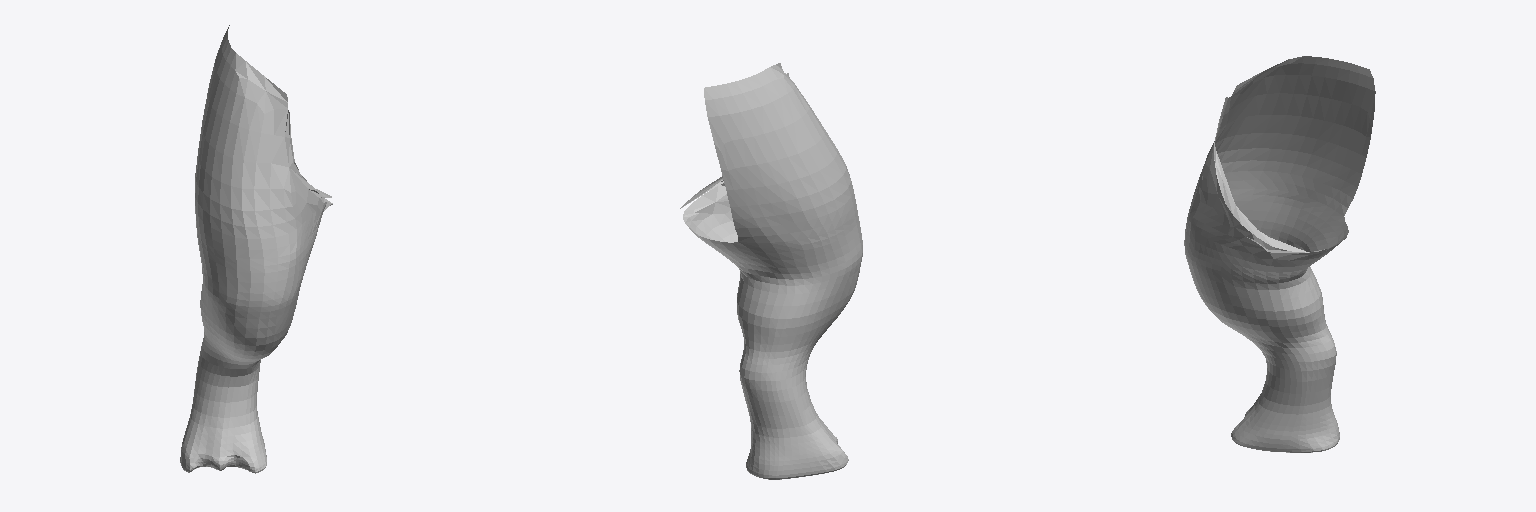
The model's file is rleg.obj.
3 views of the same model, side by side, from view 1: azimuth 30°, elevation 25°; view 2: azimuth 150°, elevation 25°; view 3: azimuth 270°, elevation 25° (orthographic).
Parts seen in each view (by area): view 1: ????; view 2: ????; view 3: ????.
Boxes of the visible parts, box(x1,y1,x2,y2) form: ????: box(180, 25, 332, 473); ????: box(680, 63, 862, 479); ????: box(1184, 56, 1375, 452).
Size of the model in its own units: 13.83 by 34.8 by 15.36.